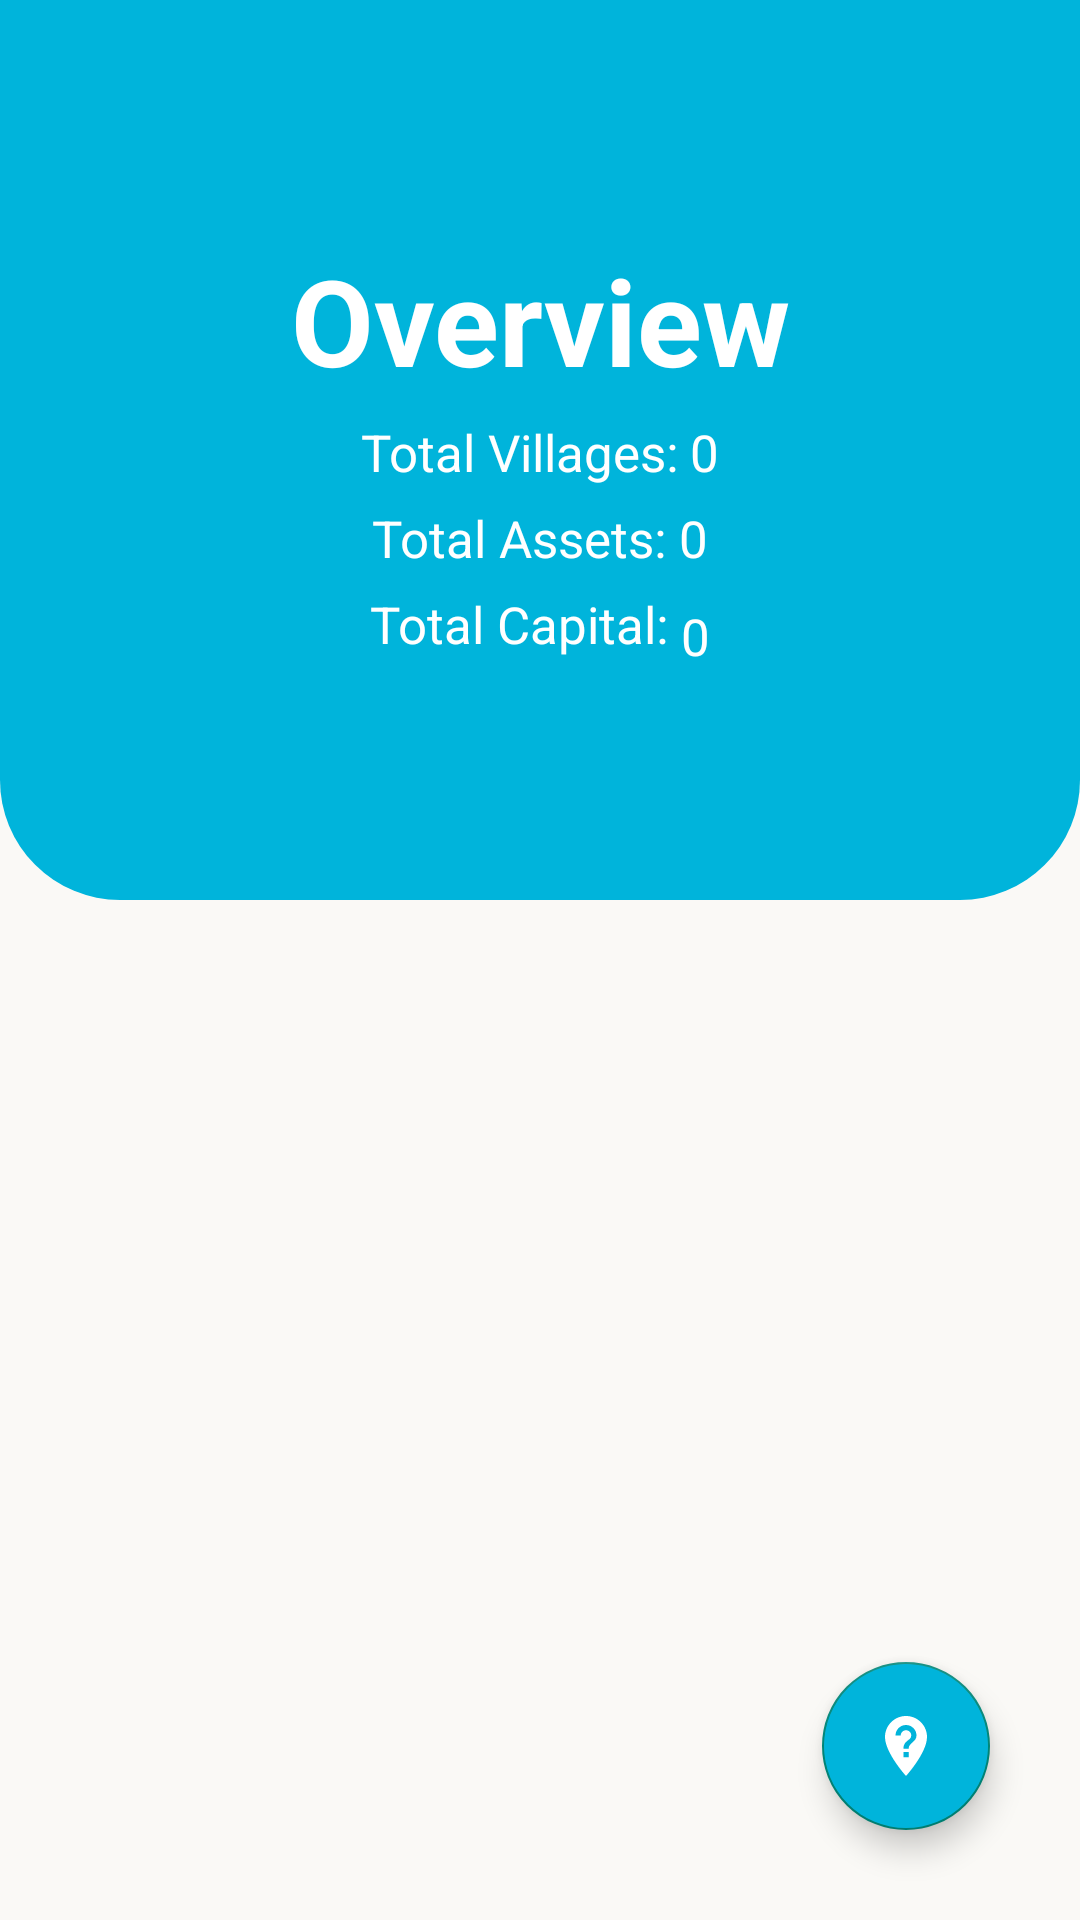

Icons on this 1080px x 1920px Android screen, each with its box as (x1, y1, x2, y2):
not listed location: (822, 1662, 990, 1830)
